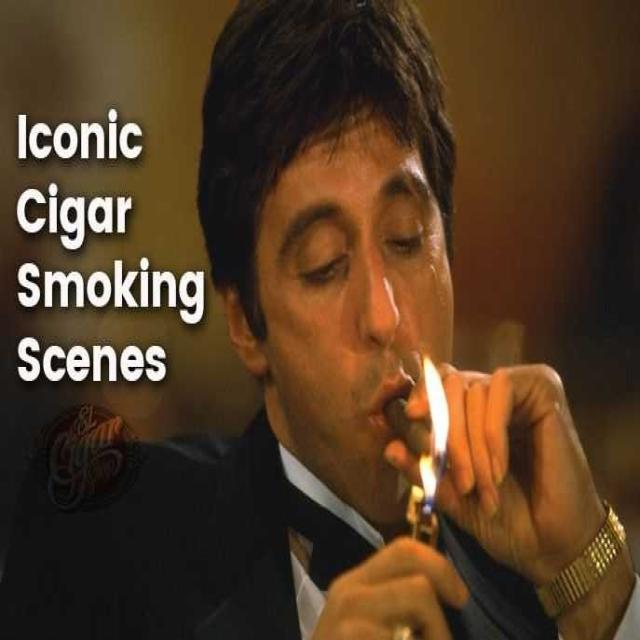Smooking: (390, 389, 456, 474)
